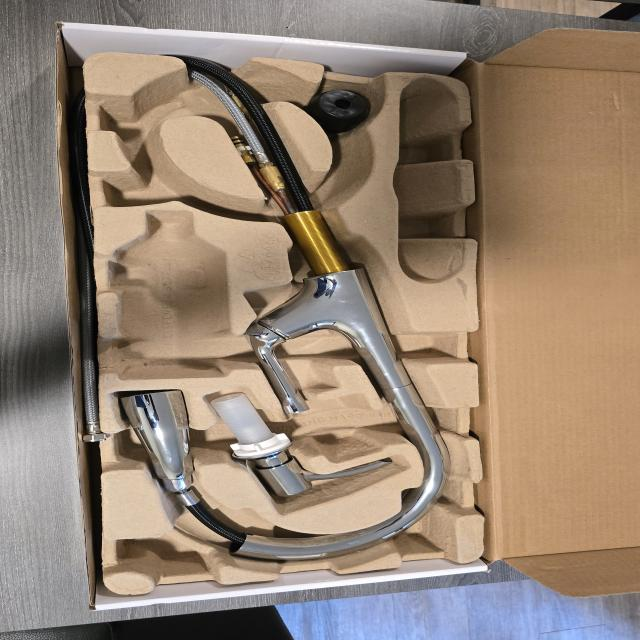1: (118, 56, 450, 563)
2: (207, 392, 394, 499)
3m: (117, 211, 227, 376)
4m: (394, 78, 465, 283)
5: (307, 90, 370, 135)
6m: (103, 87, 187, 144)
7m: (109, 160, 215, 210)
